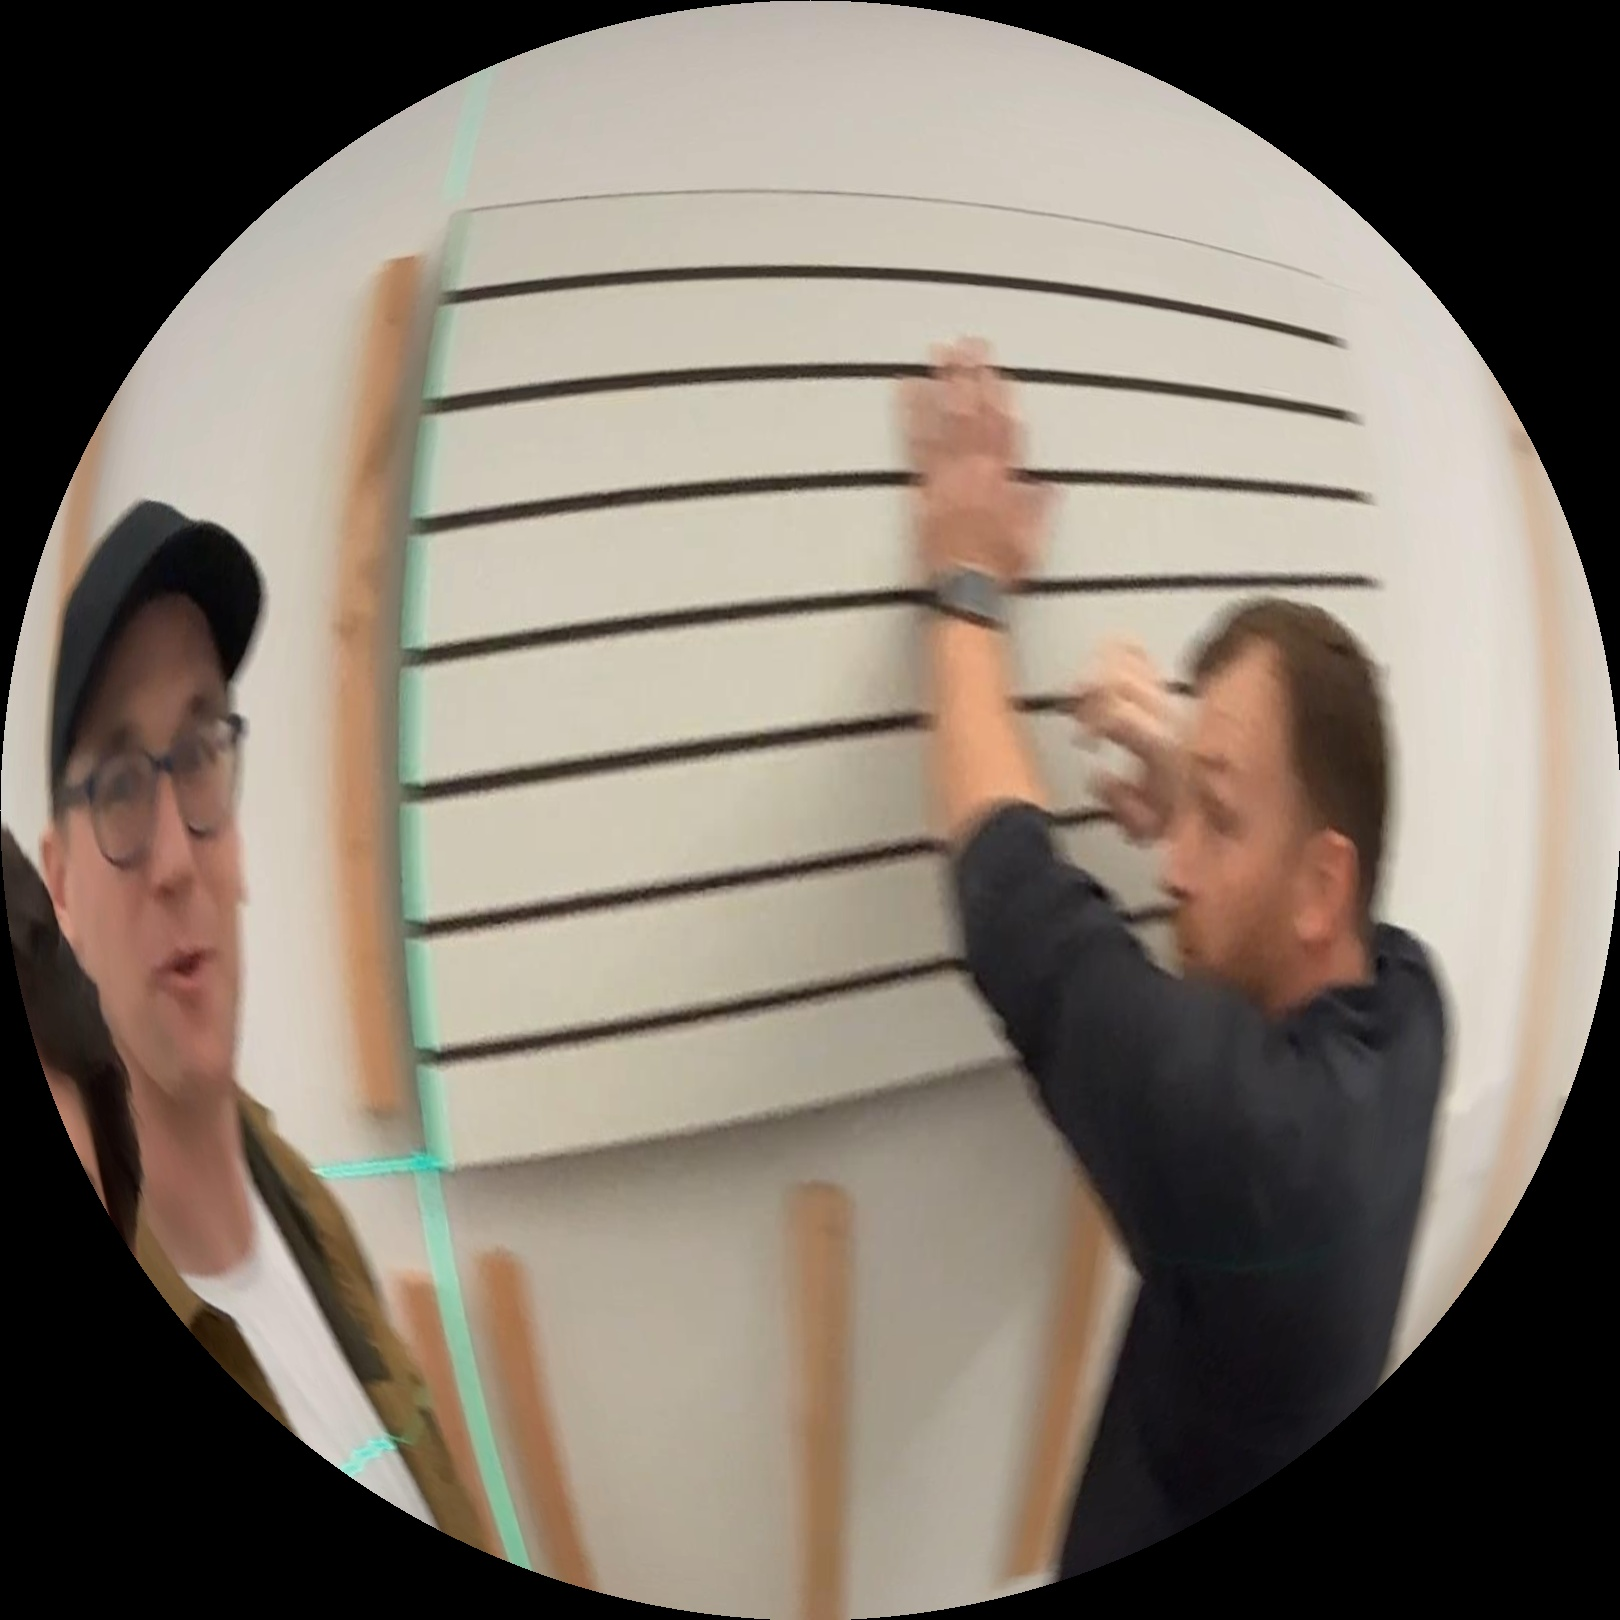face: (46, 566, 278, 1142), (1153, 564, 1371, 1046), (31, 1029, 123, 1239)
